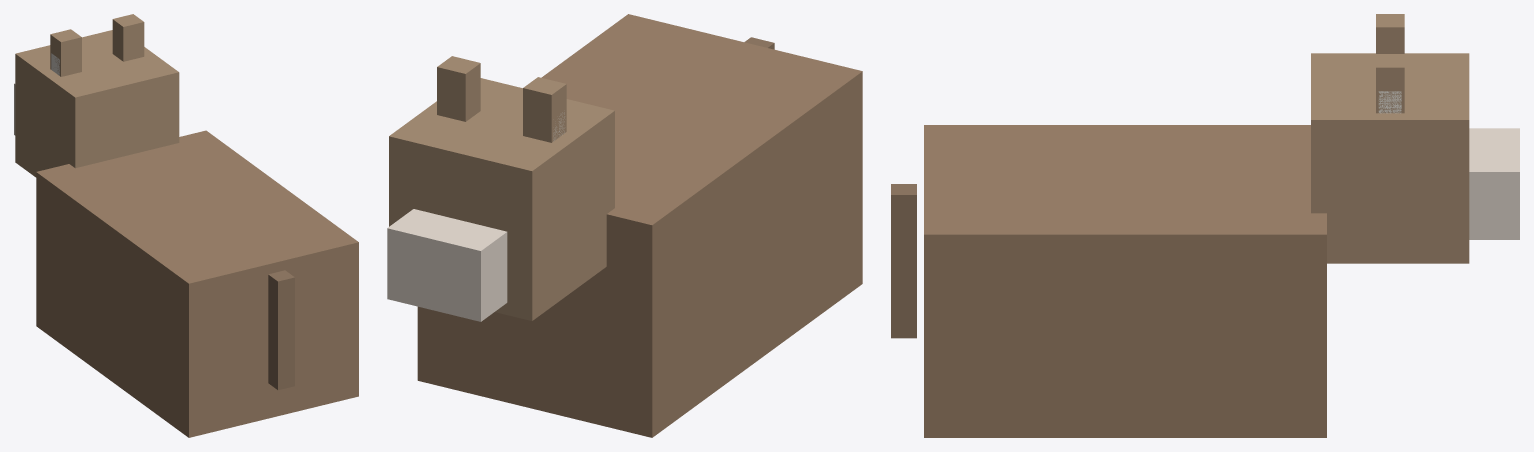
File: cow.glb
3 renders of one model, left to right at view 1: azimuth 30°, elevation 25°; view 2: azimuth 150°, elevation 25°; view 3: azimuth 270°, elevation 25°, orthographic. The views are drawn at different scales.
Parts seen in each view (by area): view 1: body, headmesh, tail, ear_r, ear_l; view 2: body, headmesh, snout, ear_l, ear_r; view 3: body, headmesh, snout, tail, ear_r, ear_l.
Part boxes in pixels (x1,y1,x2,y2): body: (36,130,358,437); headmesh: (15,30,179,177); tail: (268,270,294,390); ear_r: (112,14,144,61); ear_l: (50,29,81,76); body: (417,14,862,437); headmesh: (389,78,614,320); snout: (387,209,507,321); ear_l: (523,77,566,142); ear_r: (437,56,480,121); body: (924,125,1326,437); headmesh: (1311,53,1469,263); snout: (1469,128,1519,239); tail: (891,184,916,338); ear_r: (1376,54,1404,113); ear_l: (1376,14,1404,53).
Size of the model in its own units: 0.9 by 1.31 by 2.19.
